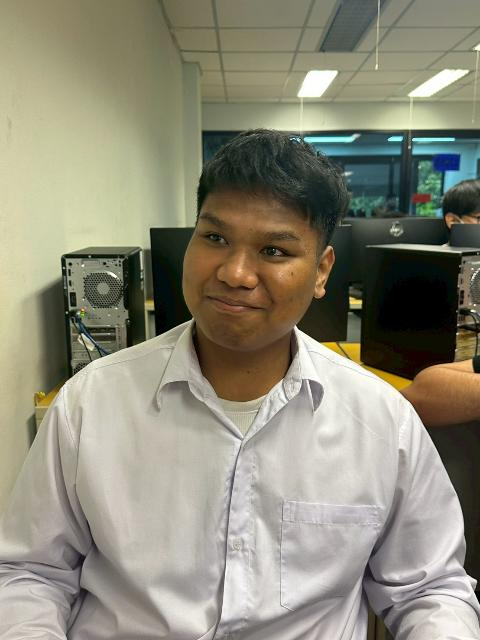fokus: (181, 137, 338, 350)
